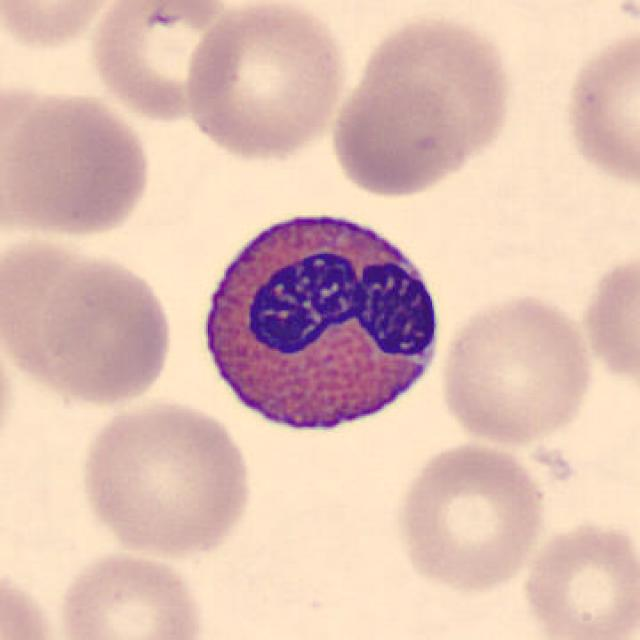Eosinophil: (186, 196, 452, 453)
RBC: (323, 7, 518, 198), (75, 395, 258, 561), (3, 242, 182, 409), (180, 0, 350, 164), (436, 289, 598, 448), (393, 437, 549, 596), (2, 86, 156, 242), (85, 0, 249, 125), (517, 516, 638, 640), (53, 548, 208, 640), (558, 21, 640, 194), (578, 244, 638, 392), (0, 0, 132, 53), (0, 557, 64, 640)
